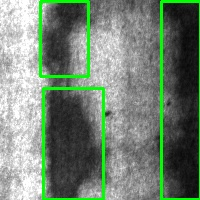patches: (161, 1, 200, 199), (43, 88, 103, 199), (40, 1, 88, 76)
